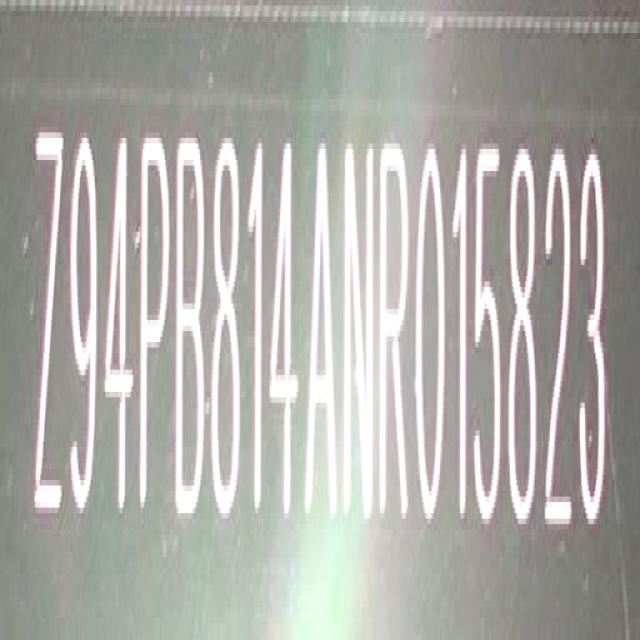0: (415, 140, 449, 532)
1: (450, 139, 472, 532), (249, 136, 269, 528)
2: (540, 145, 574, 539)
3: (580, 147, 614, 533)
4: (103, 130, 137, 532), (270, 140, 304, 530)
5: (471, 140, 503, 533)
8: (210, 133, 246, 524), (507, 139, 539, 533)
9: (66, 130, 102, 534)
A: (306, 136, 342, 528)
B: (175, 130, 209, 530)
N: (344, 134, 381, 527)
P: (136, 129, 171, 529)
R: (380, 136, 415, 530)
Z: (32, 122, 66, 538)
